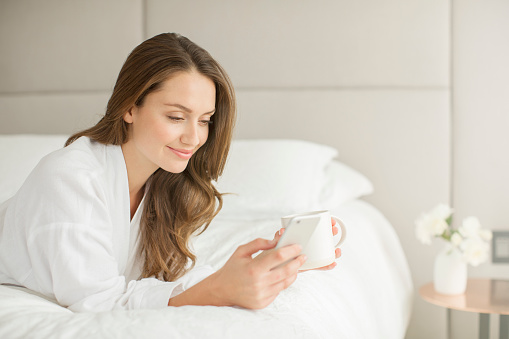deitado: (0, 47, 366, 338)
